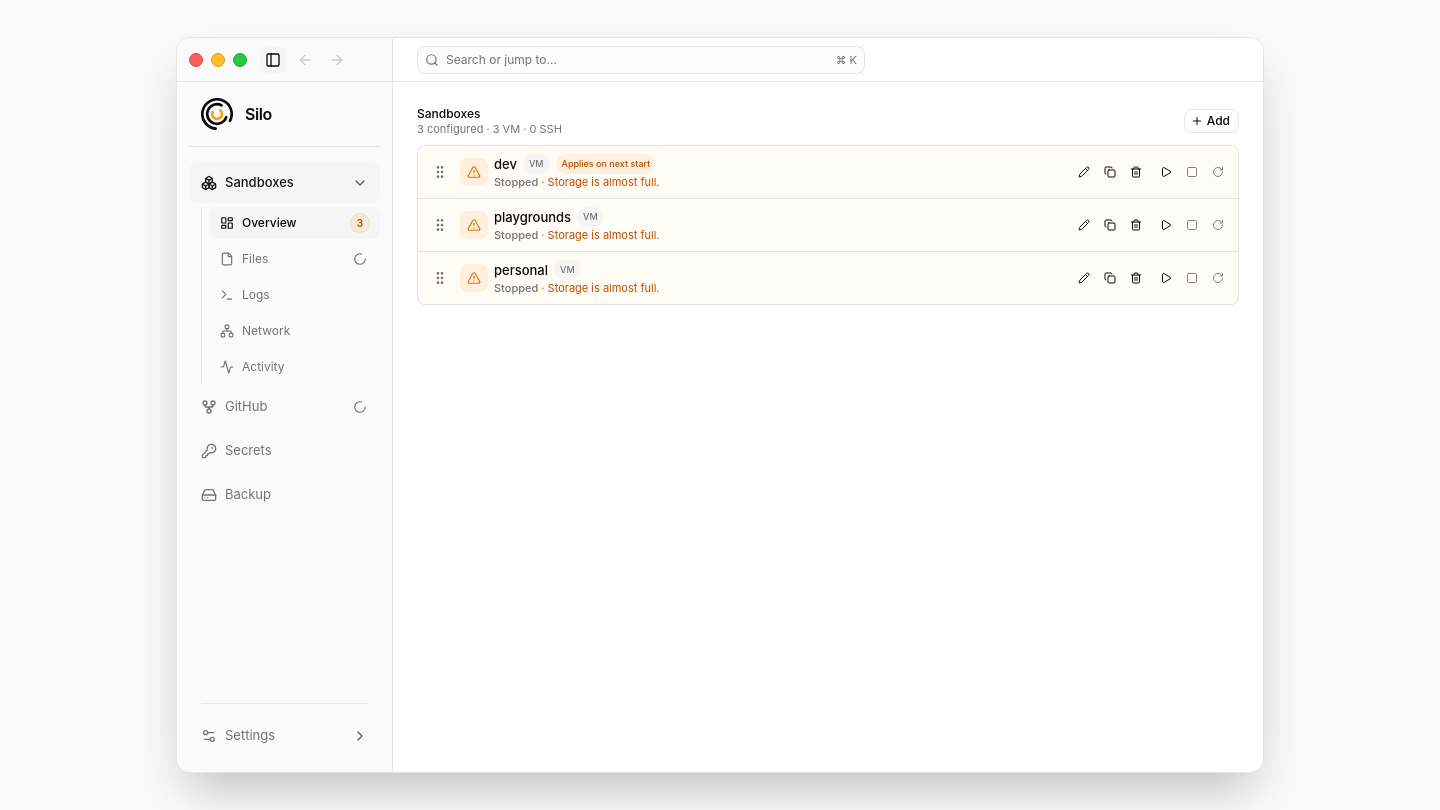
Test: application › keeps busy and warning indicators visible in the collapsed sidebar
The width and height of the screenshot is (1440, 810).
Click the button named "Collapse sidebar". click: (273, 60)
box: [259, 46, 287, 74]
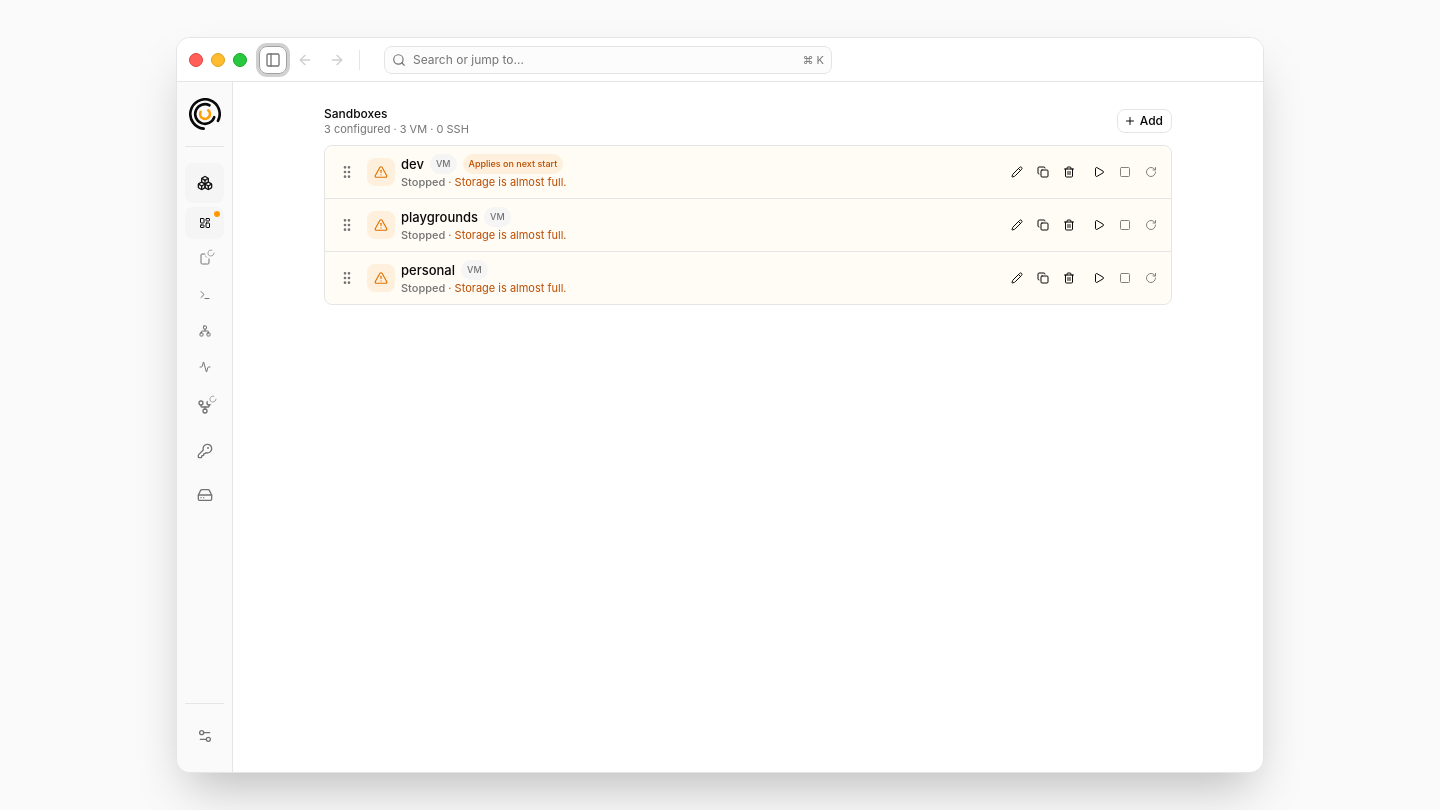
Now the message named "0 sandbox errors, 3 sandbox warnings" is shown, box [214, 211, 220, 217]
